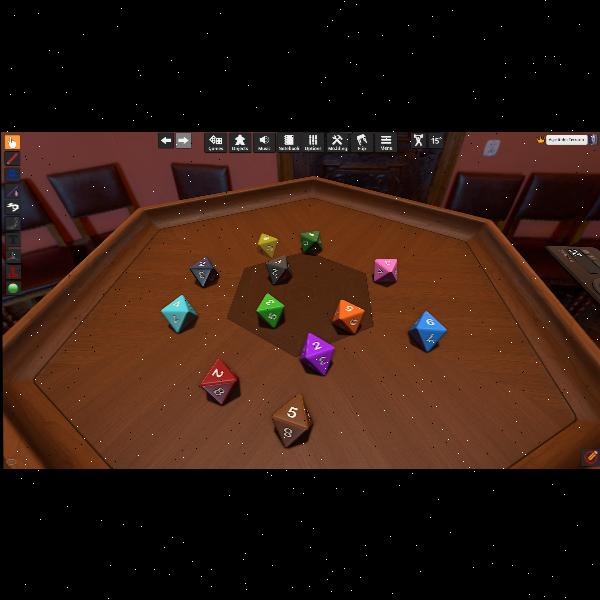d8: (270, 391, 316, 451), (200, 358, 237, 404), (407, 310, 444, 351), (300, 333, 335, 375), (162, 294, 199, 332), (332, 298, 362, 334), (256, 292, 284, 328), (190, 255, 218, 287), (266, 254, 292, 284), (257, 232, 278, 258), (374, 258, 396, 282), (299, 230, 320, 254)
